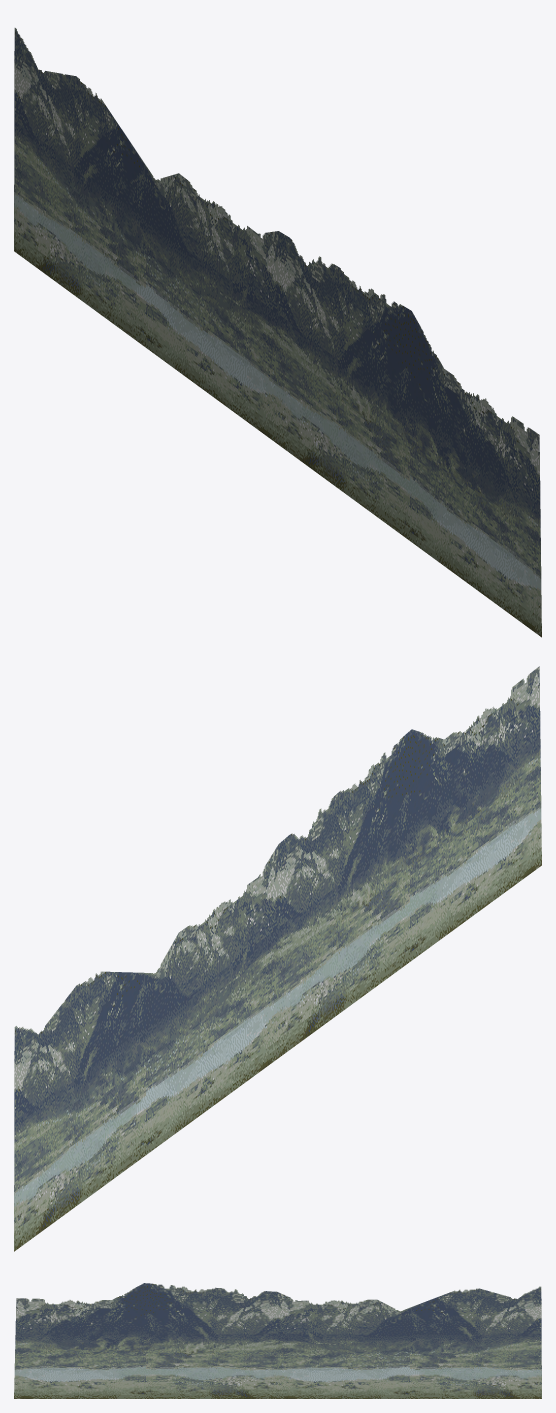
The model's file is BgMD_Dis_River_A.FBX.
The picture shows the model from 3 angles, top to bottom: view 1: azimuth 30°, elevation 25°; view 2: azimuth 150°, elevation 25°; view 3: azimuth 270°, elevation 25°; orthographic projection. The views are drawn at different scales.
Visible parts, largest first — view 1: BgMD_Dis_River_A; view 2: BgMD_Dis_River_A; view 3: BgMD_Dis_River_A.
Part boxes in pixels (x1,y1,x2,y2): BgMD_Dis_River_A: [14, 28, 541, 637]; BgMD_Dis_River_A: [14, 666, 541, 1251]; BgMD_Dis_River_A: [14, 1283, 541, 1398].
Size of the model in its own units: 3.61e-12 by 1587 by 6400.
